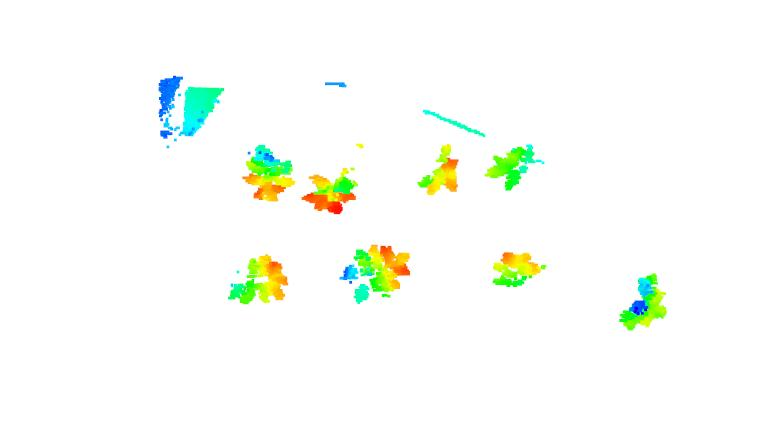chickpea: (339, 241, 417, 308), (227, 251, 290, 307), (482, 138, 547, 190), (302, 164, 364, 218), (241, 144, 294, 204), (618, 269, 667, 331), (416, 142, 461, 201), (493, 248, 543, 289)
